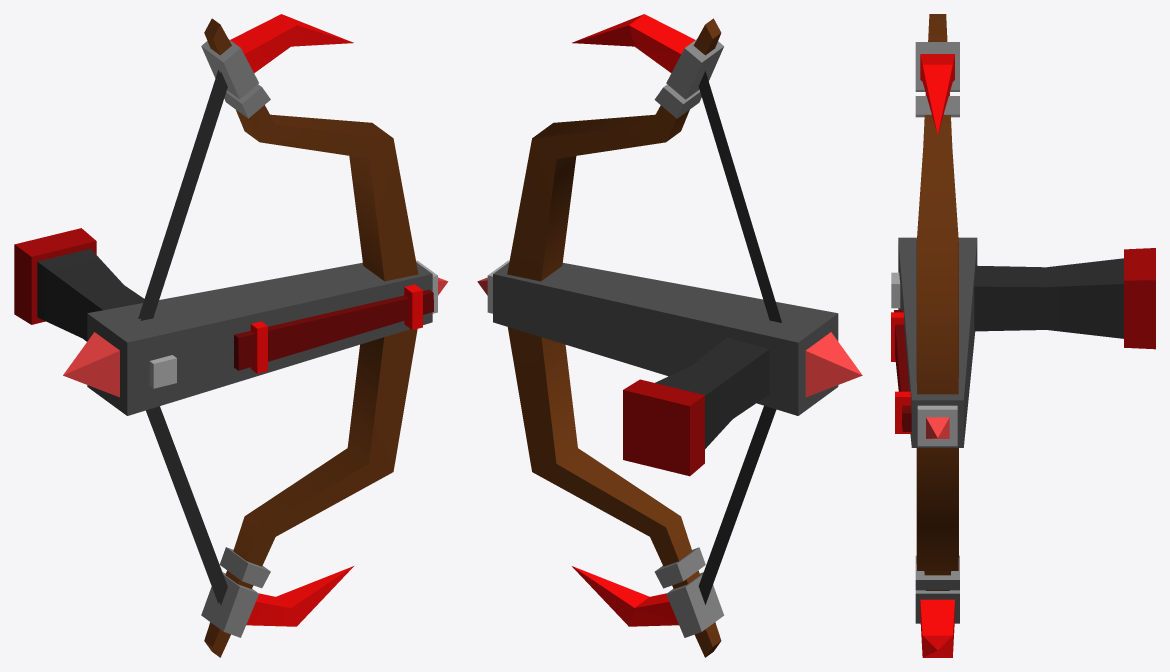
File: Crossbow 03.FBX
3 renders of one model, left to right at view 1: azimuth 30°, elevation 25°; view 2: azimuth 150°, elevation 25°; view 3: azimuth 270°, elevation 25°, orthographic.
Parts seen in each view (by area): view 1: Crossbow 03; view 2: Crossbow 03; view 3: Crossbow 03.
Boxes of the visible parts, bbox=[...] form: Crossbow 03: bbox=[14, 14, 448, 657]; Crossbow 03: bbox=[477, 14, 862, 657]; Crossbow 03: bbox=[891, 14, 1155, 657].
Bounding box in the file's own units: 32.77 × 51.44 × 19.75.
